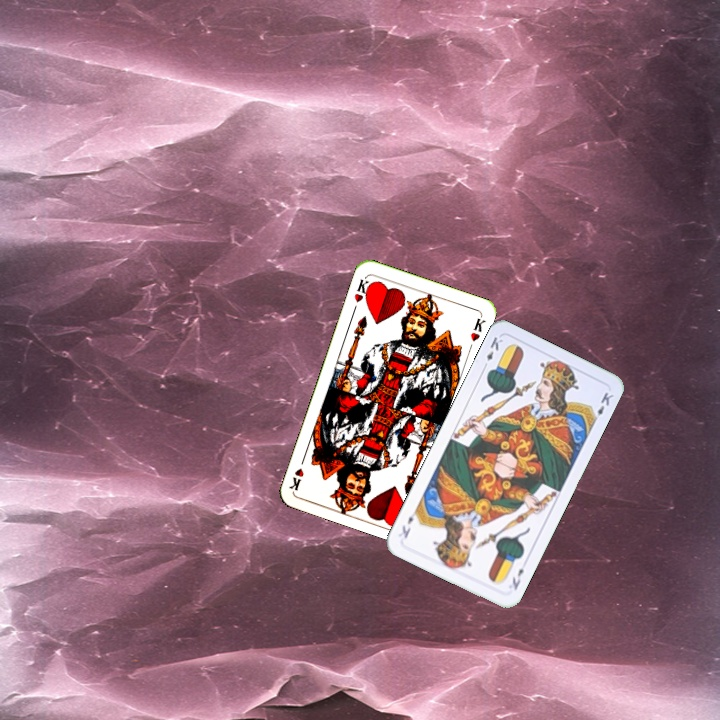EK: (479, 333, 505, 372), (508, 564, 526, 593)
HK: (350, 273, 375, 305)
